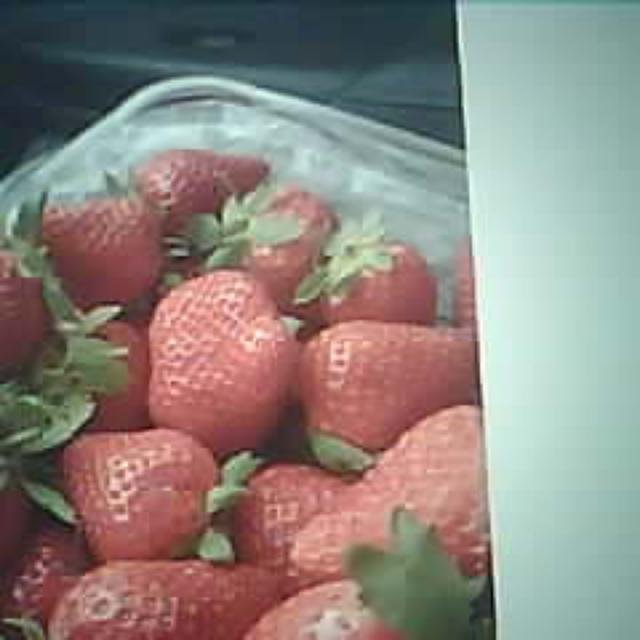strawberry: (300, 316, 476, 464), (146, 273, 289, 442), (60, 428, 214, 563)
